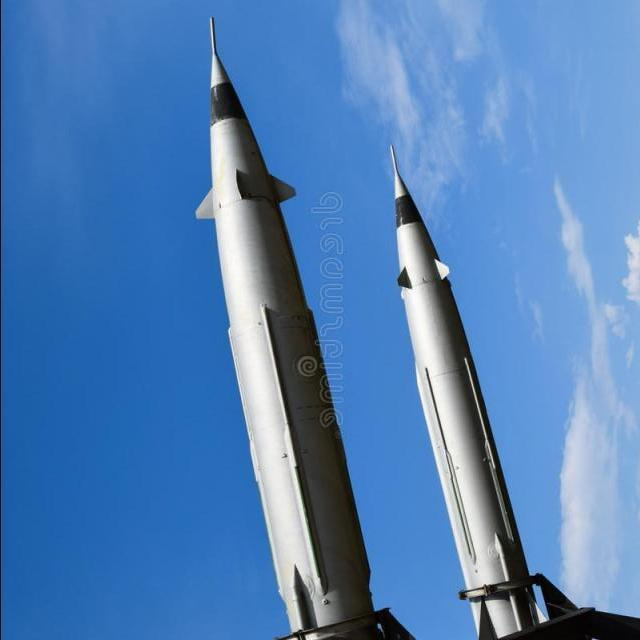missile: (184, 11, 387, 640), (378, 123, 578, 640)
